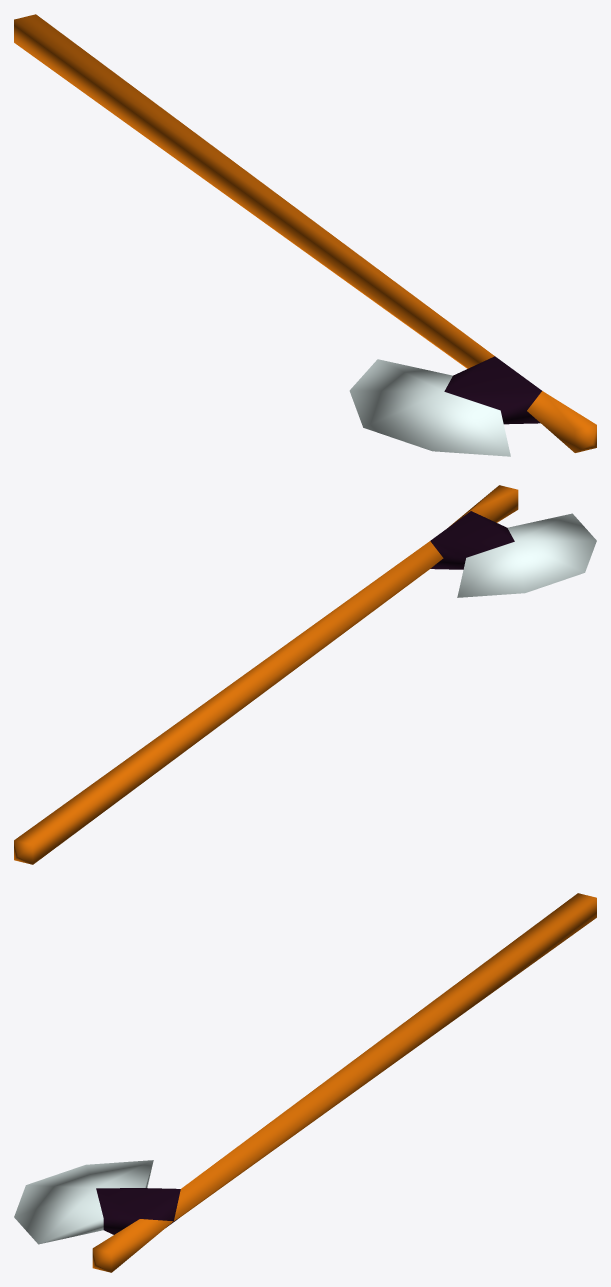
File: Axe 1.fbx
The picture shows the model from 3 angles, top to bottom: view 1: azimuth 30°, elevation 25°; view 2: azimuth 150°, elevation 25°; view 3: azimuth 330°, elevation 25°; orthographic projection. The views are drawn at different scales.
Parts seen in each view (by area): view 1: Axe; view 2: Axe; view 3: Axe.
Boxes of the visible parts, bbox=[...] form: Axe: bbox=[14, 14, 596, 456]; Axe: bbox=[14, 485, 596, 864]; Axe: bbox=[14, 893, 596, 1272].
Size of the model in its own units: 0.275 by 0.05 by 1.6.
Materials: 3 (3 with a texture image).
